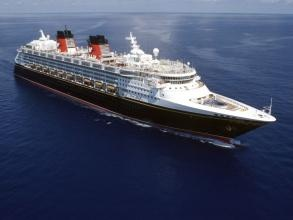youlun: (12, 23, 276, 139)
